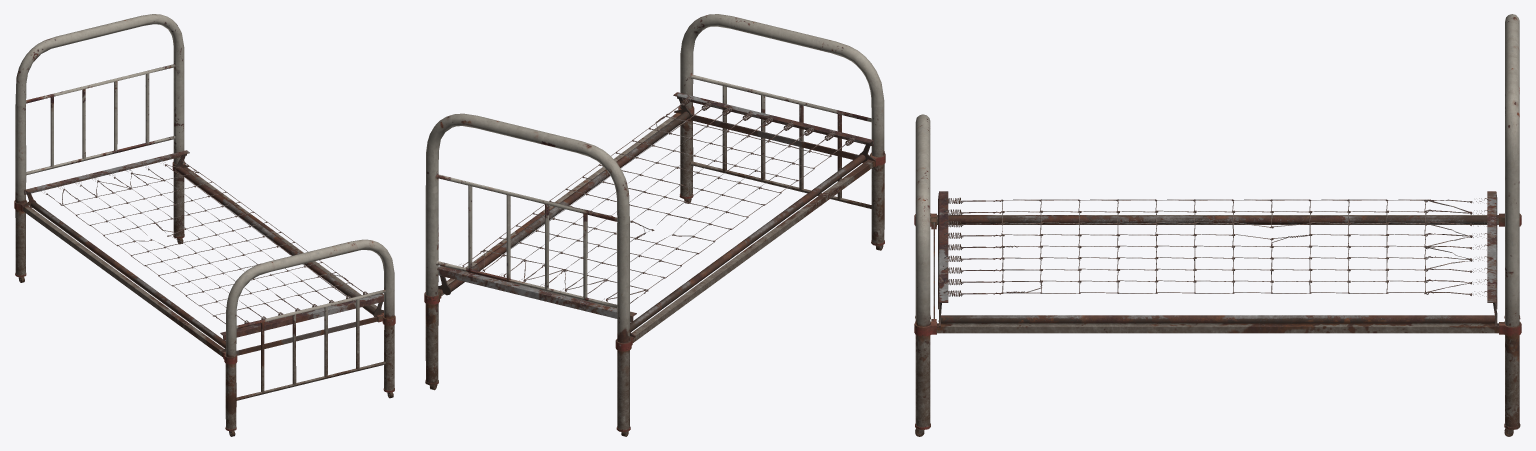
The model's file is old_bed_frame.glb.
The picture shows the model from 3 angles, left to right: view 1: azimuth 30°, elevation 25°; view 2: azimuth 150°, elevation 25°; view 3: azimuth 270°, elevation 25°; orthographic projection. The views are drawn at different scales.
Visible parts, largest first — view 1: old_bed_frame; view 2: old_bed_frame; view 3: old_bed_frame.
Part boxes in pixels (<box>): old_bed_frame: <box>14,14,395,436</box>; old_bed_frame: <box>424,14,885,436</box>; old_bed_frame: <box>914,14,1521,436</box>.
Bounding box in the file's own units: 0.9047 × 1.2 × 2.
Materials: 1 (1 with a texture image).
